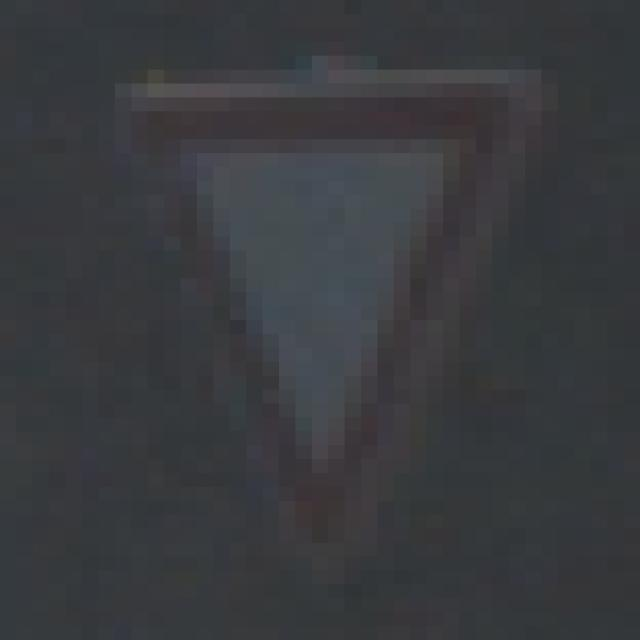Give Way: (83, 71, 559, 572)
